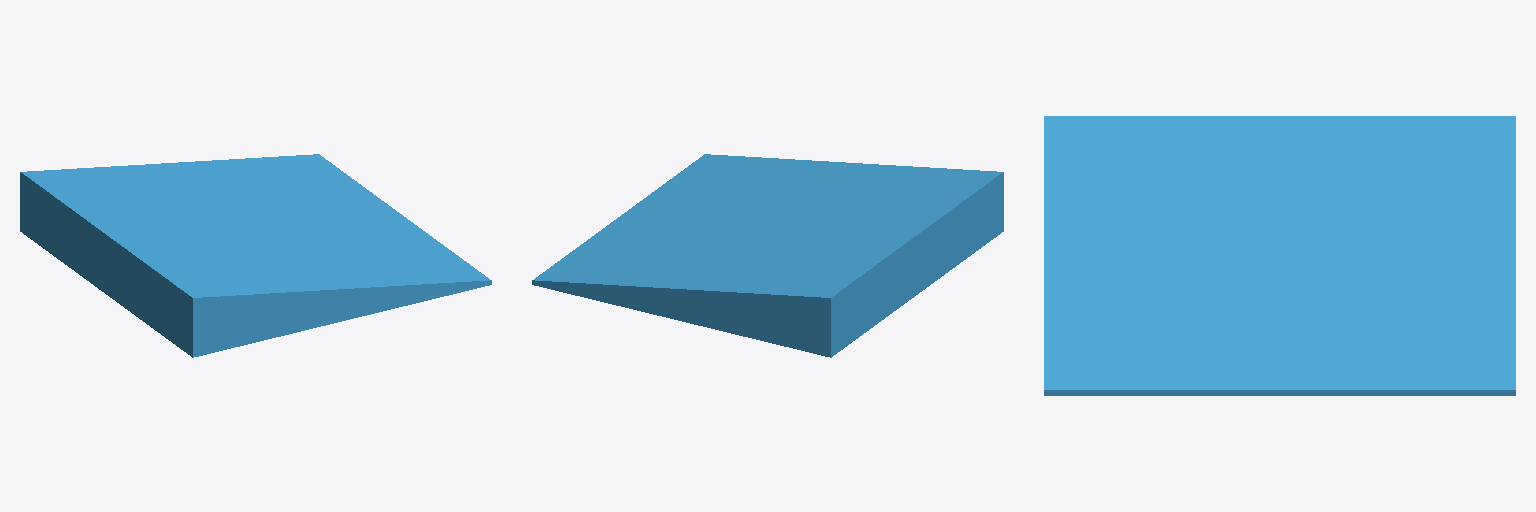
robot.urdf — Y_positive_10:
<?xml version="1.0" ?>
<robot name="Y_positive_10">
<!-- Used for fixing robot to Gazebo 'base_link' -->

<link name="world"/>

  <joint name="fixed" type="fixed">
    <parent link="world"/>
    <child link="Y_positive_10_lifted__link"/>
  </joint>

  <link name="Y_positive_10_lifted__link">
    <inertial>
      <mass value="10"/>
      <inertia ixx="1.0" ixy="0.0" ixz="0.0" iyy="1.0" iyz="0.0" izz="1.0"/>
    </inertial>
    <collision>
      <geometry>
         <mesh filename="package://pal_gazebo_worlds/models/Y_positive_10_lifted/meshes/10_degree_slope_lifted.stl" scale="0.00999 0.00999 0.00999"/>
      </geometry>
      <surface>
        <friction>
          <ode>
            <mu1 value="1.0" />
            <mu2 value="1.0" />
            <kp  value="1e5" />
            <kd  value="1e2" />
            <maxVel  value="100.0" />
            <minDepth  value="0.0" />
            <dampingFactor>0.01</dampingFactor>
          </ode>
        </friction>
      </surface>
    </collision>
    <visual>
      <geometry>
        <mesh filename="package://pal_gazebo_worlds/models/Y_positive_10_lifted/meshes/10_degree_slope_lifted.stl" scale="0.00999 0.00999 0.00999"/>
      </geometry>
      <material name="white">
      </material>
    </visual>
  </link>



</robot>

--- Render facts (derived) ---
The picture shows the robot from 3 angles, left to right: view 1: azimuth 30°, elevation 25°; view 2: azimuth 150°, elevation 25°; view 3: azimuth 270°, elevation 25°; orthographic projection.
Model Y_positive_10 with 2 links and 1 joints (1 fixed), rooted at world, posed all joints at 0.
Links seen in each view (by area): view 1: Y_positive_10_lifted__link; view 2: Y_positive_10_lifted__link; view 3: Y_positive_10_lifted__link.
Boxes of the visible links, x1,y1,x2,y2 form: Y_positive_10_lifted__link: (20,154,491,357); Y_positive_10_lifted__link: (532,154,1003,357); Y_positive_10_lifted__link: (1044,116,1515,395).
Bounding box of the posed robot: 0.3996 × 0.3996 × 0.0765 m (x, y, z).
1 mesh visuals loaded from 1 distinct referenced files (1 binary STL).